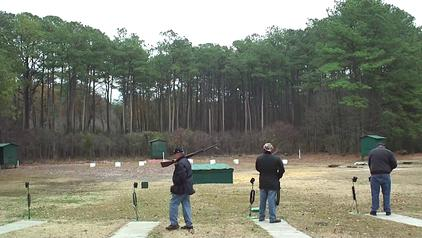stay: (255, 136, 282, 225), (167, 150, 195, 233), (368, 137, 396, 215)
